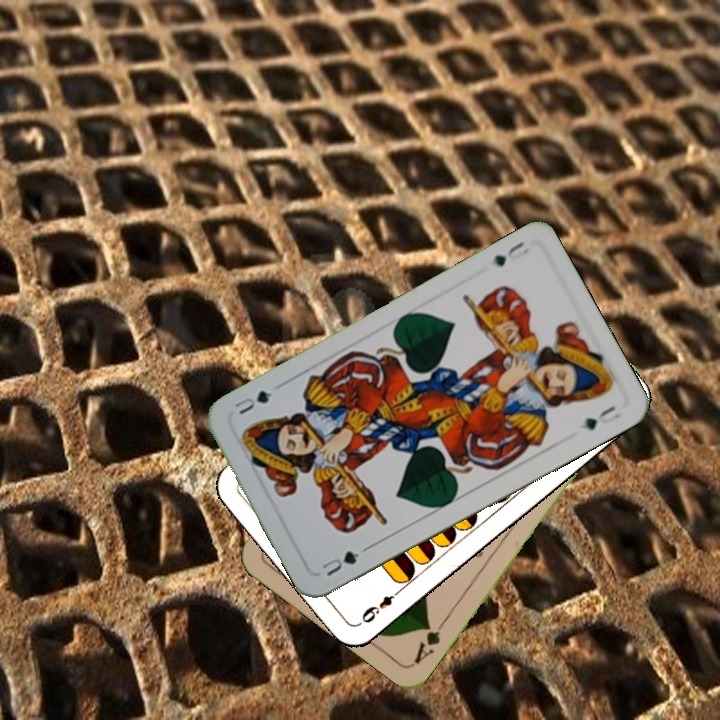E9: (357, 584, 405, 626)
GA: (410, 615, 450, 667)
GU: (317, 546, 362, 579), (488, 237, 532, 269)
